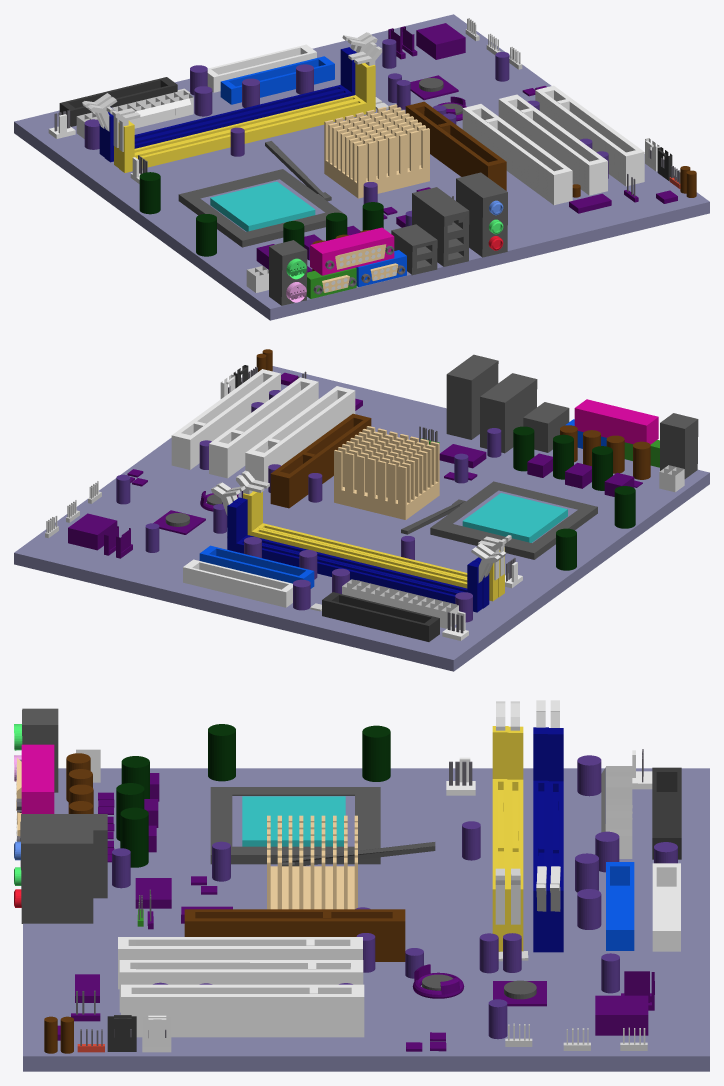
The model's file is Modelo de Motherboard Update.glb.
The picture shows the model from 3 angles, top to bottom: view 1: azimuth 30°, elevation 25°; view 2: azimuth 150°, elevation 25°; view 3: azimuth 270°, elevation 25°; orthographic projection. The views are drawn at different scales.
Parts seen in each view (by area): view 1: Placa Base, Enfriador, RAM1.1, Tarjeta Expansion 1, Procesador, Tarjeta Expansion 3, Tarjeta Expansion 2, Tarjeta Video, Procesador.002, Puerto USB/LAN, Puerto Audio.005, RAM2.2 (+23 smaller); view 2: Placa Base, Enfriador, Procesador, Tarjeta Expansion 3, Tarjeta Expansion 1, Tarjeta Expansion 2, RAM2.1, Tarjeta Video, Procesador.002, Puerto Audio.005, Conector Corriente expancion 1, Puerto USB/LAN (+23 smaller); view 3: Placa Base, Tarjeta Expansion 2, Puerto Audio.005, Tarjeta Video, Procesador, Tarjeta Expansion 3, Enfriador, Tarjeta Expansion 1, Procesador.002, RAM2.2, RAM2.1, RAM1.1 (+32 smaller).
Boxes of the visible parts, box(x1,y1,x2,y2) form: Placa Base: box(14, 14, 709, 320); Enfriador: box(324, 104, 429, 198); RAM1.1: box(119, 63, 375, 172); Tarjeta Expansion 1: box(462, 104, 572, 205); Procesador: box(178, 141, 343, 247); Tarjeta Expansion 3: box(498, 94, 607, 195); Tarjeta Expansion 2: box(535, 85, 644, 186); Tarjeta Video: box(405, 101, 506, 190); Procesador.002: box(210, 181, 315, 231); Puerto USB/LAN: box(412, 187, 469, 266); Puerto Audio.005: box(456, 172, 507, 257); RAM2.2: box(104, 51, 356, 162); Placa Base: box(14, 366, 709, 671); Enfriador: box(334, 426, 439, 519); Procesador: box(401, 481, 597, 559); Tarjeta Expansion 3: box(209, 377, 318, 478); Tarjeta Expansion 1: box(245, 386, 355, 482); Tarjeta Expansion 2: box(171, 369, 280, 469); RAM2.1: box(227, 502, 482, 612); Tarjeta Video: box(270, 413, 371, 508); Procesador.002: box(462, 493, 567, 542); Puerto Audio.005: box(446, 354, 498, 439); Conector Corriente expancion 1: box(322, 592, 439, 641); Puerto USB/LAN: box(480, 373, 537, 453); Placa Base: box(23, 768, 709, 1071); Tarjeta Expansion 2: box(121, 984, 364, 1037); Puerto Audio.005: box(21, 827, 93, 923); Tarjeta Video: box(184, 909, 405, 961); Procesador: box(210, 787, 435, 866); Tarjeta Expansion 3: box(119, 960, 363, 1012); Enfriador: box(267, 815, 357, 909); Tarjeta Expansion 1: box(118, 937, 362, 989); Procesador.002: box(242, 796, 345, 846); RAM2.2: box(533, 727, 548, 952); RAM2.1: box(547, 728, 563, 952); RAM1.1: box(492, 726, 508, 951).
Bounding box in the file's own units: 10.19 × 1.6 × 10.42.
